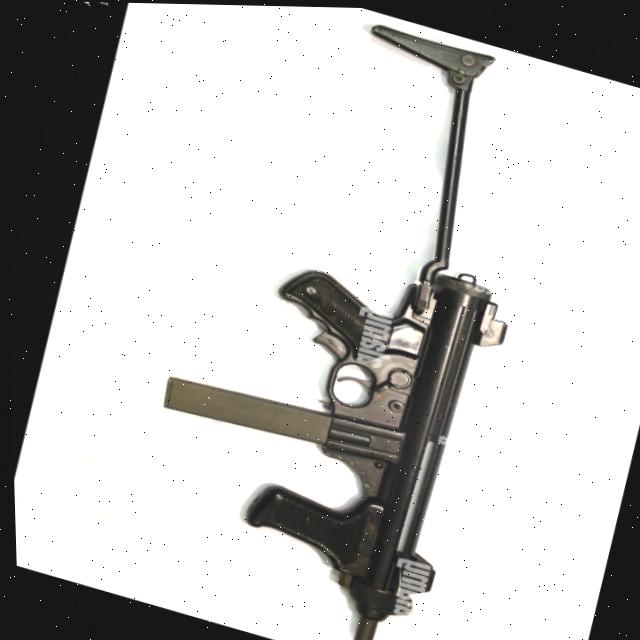firearm: (96, 2, 590, 640)
